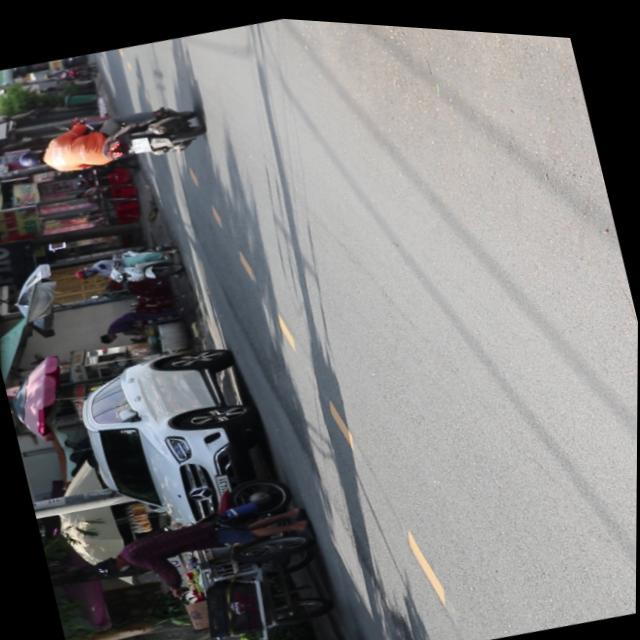helmet: (14, 147, 46, 173)
licenseplate: (8, 86, 208, 193)
nohelmet: (129, 133, 150, 154)
